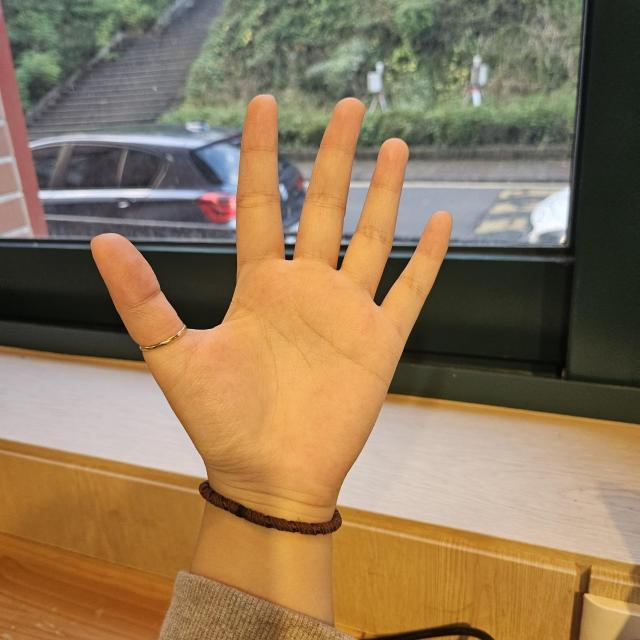hand: (84, 90, 454, 592)
